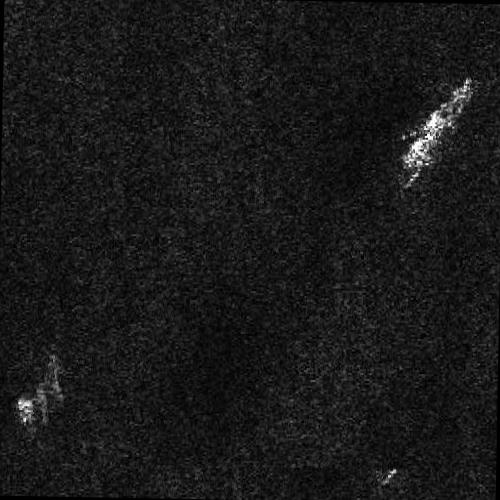ship: (401, 77, 474, 173)
